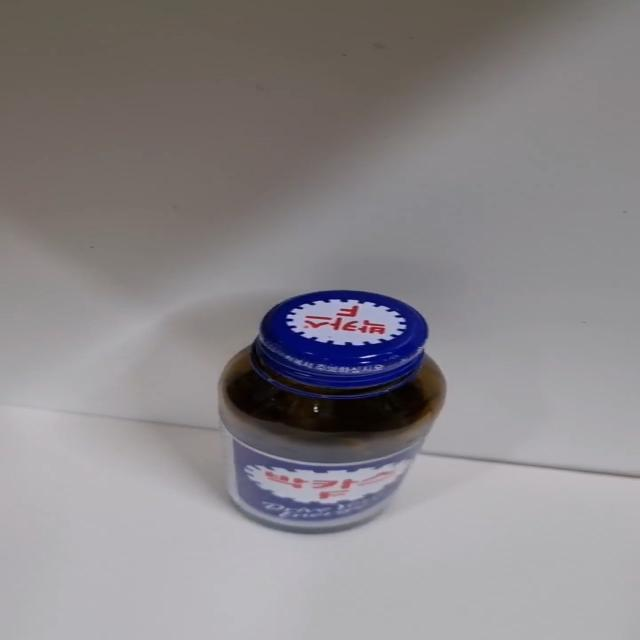Glass: (216, 290, 449, 536)
